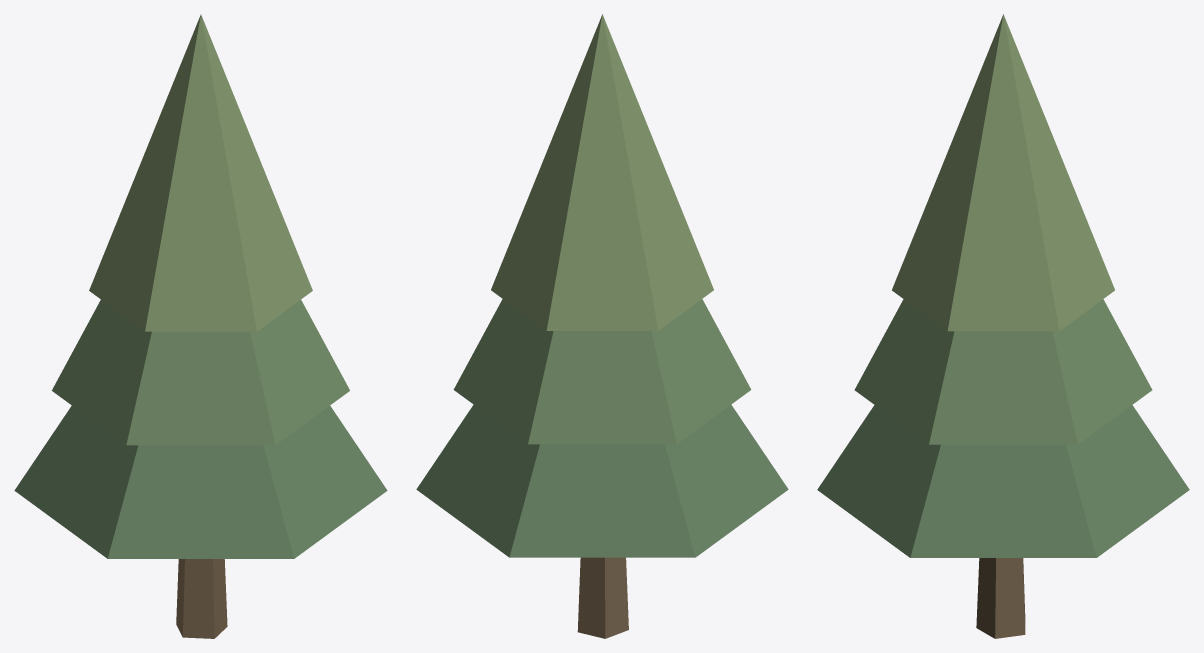
The model's file is tree.glb.
3 views of the same model, side by side, from view 1: azimuth 30°, elevation 25°; view 2: azimuth 150°, elevation 25°; view 3: azimuth 270°, elevation 25° (orthographic).
Parts seen in each view (by area): view 1: tree; view 2: tree; view 3: tree.
Boxes of the visible parts, left/top/right/bottom form: tree: left=14, top=14, right=387, bottom=638; tree: left=416, top=14, right=788, bottom=638; tree: left=817, top=14, right=1189, bottom=638.
Size of the model in its own units: 1.91 by 4 by 2.2.
